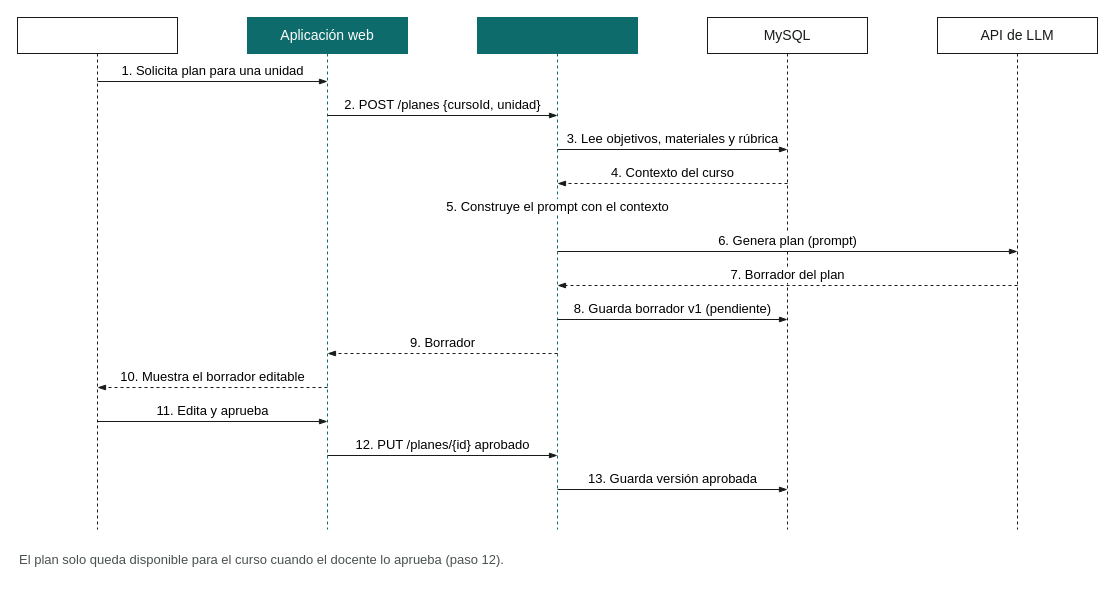
This 1115x593 diagram has some shape labels left out. Here are the shapes that lost their labels. From the top down, the box of each, then its label:
(16, 16, 178, 530): Docente
(476, 16, 638, 530): API
